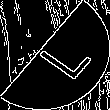L_NW: (22, 27, 88, 83)
